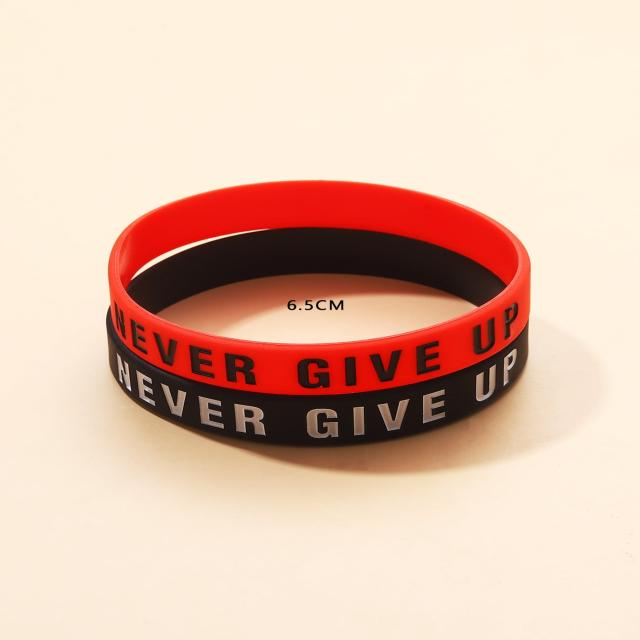bracelet: (57, 161, 640, 479)
